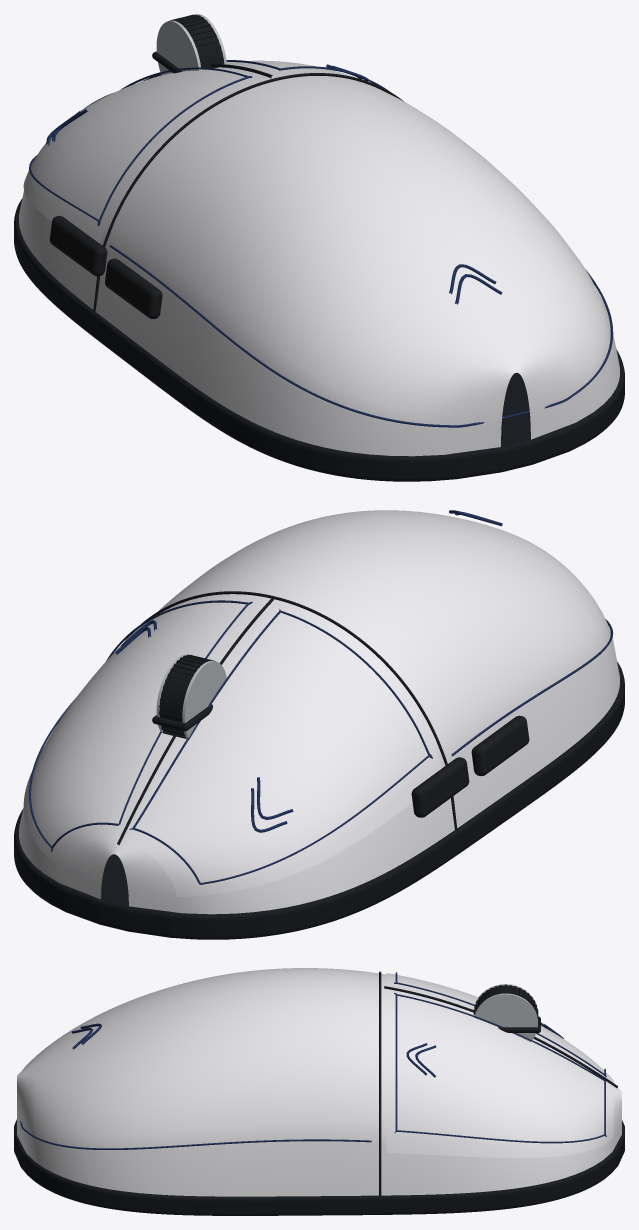
File: formkey-mouse-white.glb
The picture shows the model from 3 angles, top to bottom: view 1: azimuth 30°, elevation 25°; view 2: azimuth 150°, elevation 25°; view 3: azimuth 270°, elevation 25°; orthographic projection. The views are drawn at different scales.
Visible parts, largest first — view 1: Sculpted upper shell, Lower chassis, Left main button, Side thumb button (×2), Painted outline (×2), Wheel silver rim, Palm and button seam, Right main button, Rubber scroll wheel; view 2: Sculpted upper shell, Left main button, Right main button, Lower chassis, Painted outline (×3), Side thumb button (×2), Wheel silver rim, Palm and button seam, Rubber scroll wheel, Split button seam; view 3: Sculpted upper shell, Right main button, Lower chassis, Painted outline (×3), Left main button, Wheel silver rim, Palm and button seam, Split button seam, Rubber scroll wheel.
Boxes of the visible parts, box(x1,y1,x2,y2) form: Sculpted upper shell: box(19, 65, 619, 456); Lower chassis: box(14, 198, 624, 481); Left main button: box(23, 69, 262, 243); Side thumb button (×2): box(49, 216, 162, 318); Painted outline (×2): box(29, 67, 613, 427); Wheel silver rim: box(156, 20, 200, 75); Palm and button seam: box(93, 73, 403, 311); Right main button: box(224, 60, 356, 77); Rubber scroll wheel: box(176, 17, 223, 67); Sculpted upper shell: box(19, 510, 619, 914); Left main button: box(123, 604, 441, 896); Right main button: box(23, 596, 262, 868); Lower chassis: box(14, 661, 624, 939); Painted outline (×3): box(29, 600, 613, 884); Side thumb button (×2): box(411, 715, 529, 817); Wheel silver rim: box(182, 660, 226, 739); Palm and button seam: box(124, 591, 457, 830); Rubber scroll wheel: box(159, 657, 207, 736); Split button seam: box(117, 598, 273, 845); Sculpted upper shell: box(17, 968, 621, 1196); Right main button: box(386, 991, 613, 1157); Lower chassis: box(14, 1119, 624, 1215); Painted outline (×3): box(20, 972, 606, 1149); Left main button: box(386, 973, 613, 1082); Wheel silver rim: box(474, 993, 537, 1041); Palm and button seam: box(379, 971, 381, 1196); Split button seam: box(384, 986, 617, 1087); Rubber scroll wheel: box(476, 985, 535, 1010).
Size of the model in its own units: 0.0663 by 0.0373 by 0.123.
